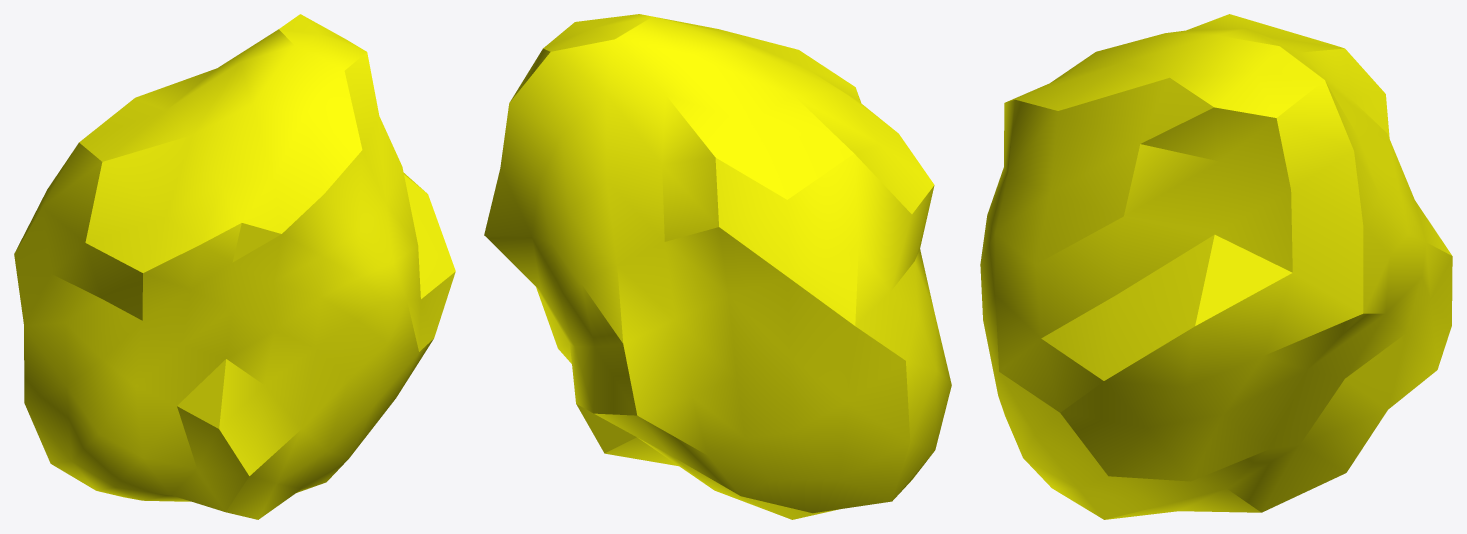
The model's file is kaykit-rock-3-n-color-1.glb.
3 renders of one model, left to right at view 1: azimuth 30°, elevation 25°; view 2: azimuth 150°, elevation 25°; view 3: azimuth 270°, elevation 25°, orthographic. The views are drawn at different scales.
Visible parts, largest first — view 1: Rock_3_N_Color1; view 2: Rock_3_N_Color1; view 3: Rock_3_N_Color1.
Part boxes in pixels (<box>): Rock_3_N_Color1: <box>14,14,455,519</box>; Rock_3_N_Color1: <box>484,14,951,519</box>; Rock_3_N_Color1: <box>980,14,1452,519</box>.
Bounding box in the file's own units: 3.42 × 3.53 × 2.98.
